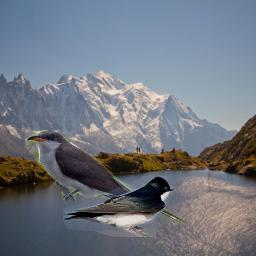Cuckoo: (25, 130, 184, 226)
Swallow: (63, 176, 173, 237)
